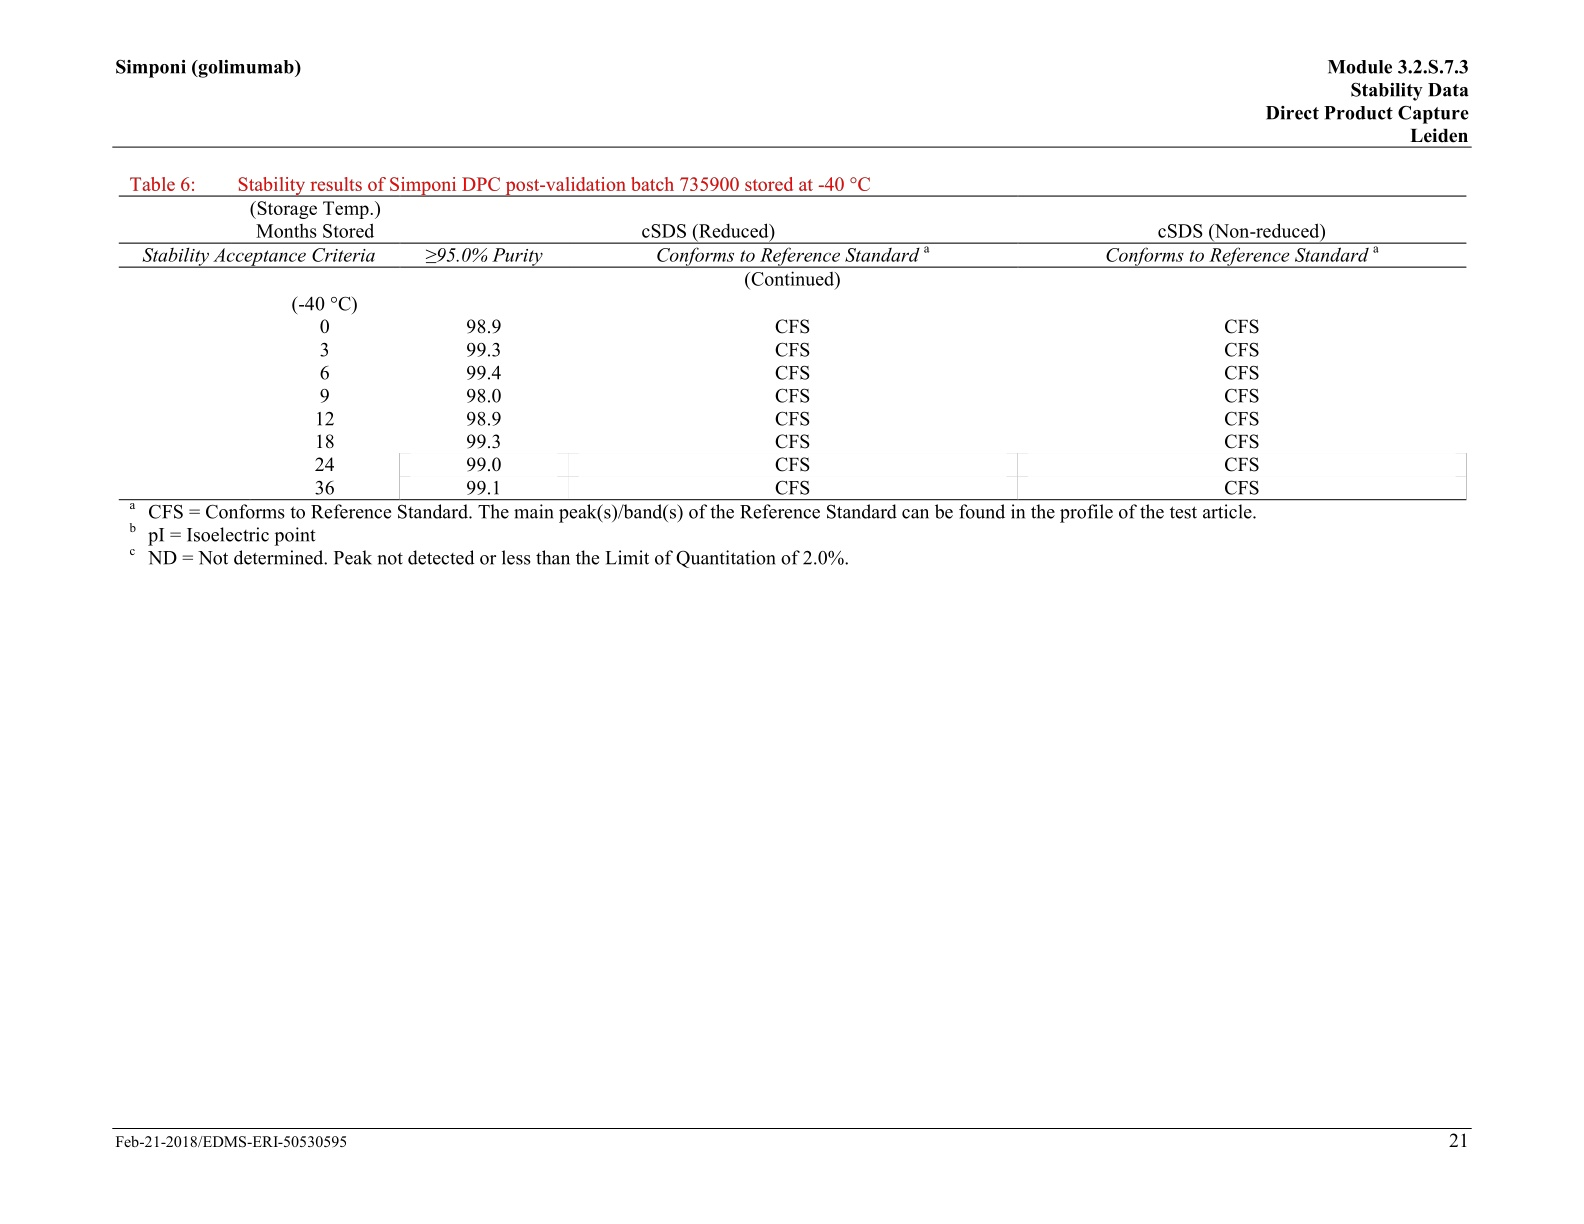partial_lined: (118, 194, 1470, 501)
